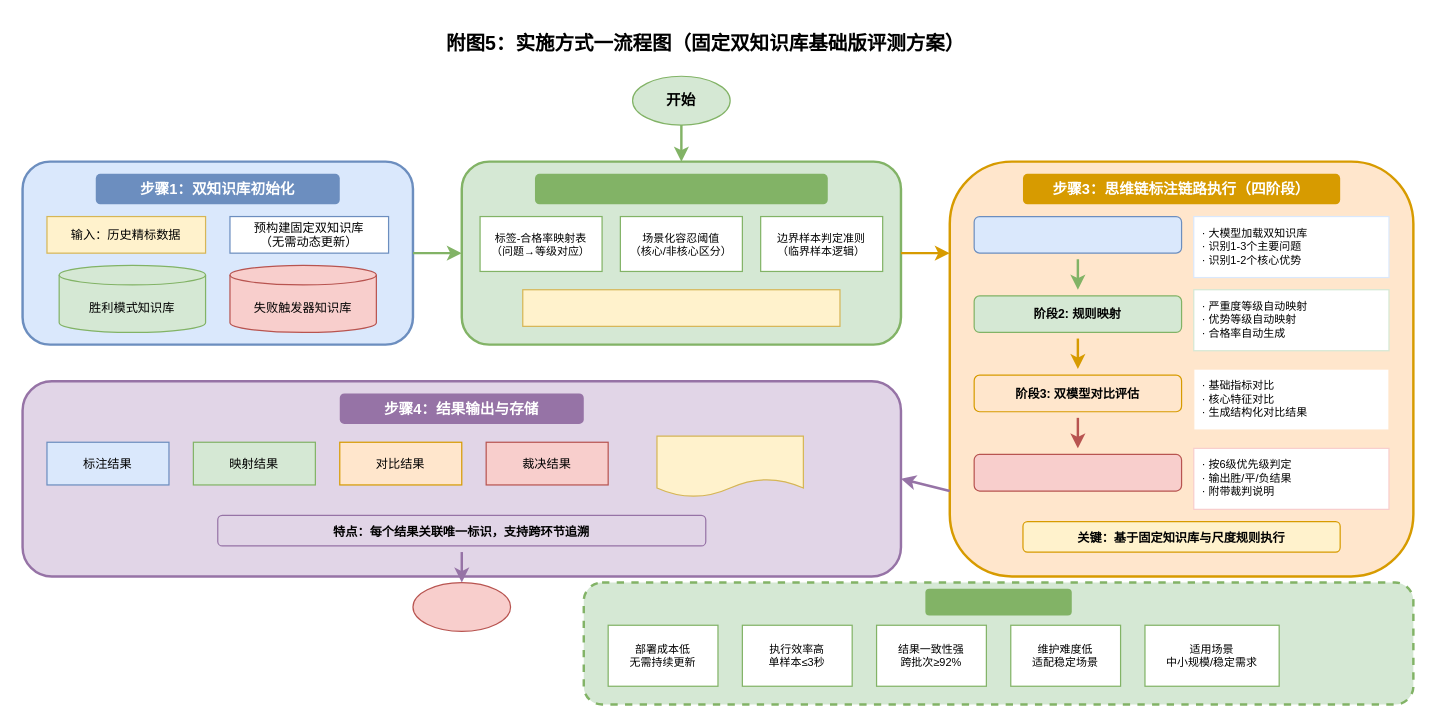
This 1435x726 diagram has some shape labels left out. Each missing label, with the centre of its shape:
"Excel存储 （按样本ID追溯）" goes at point 729,466.
"有益效果" goes at point 998,601.
"步骤2：评测尺度约束信息配置" goes at point 680,188.
"结束" goes at point 461,606.
"输出：评测尺度约束信息（固定规则）" goes at point 681,307.
"阶段1: 单模型结构化标注" goes at point 1077,234.
"阶段4: 多维度裁决推理" goes at point 1077,472.
